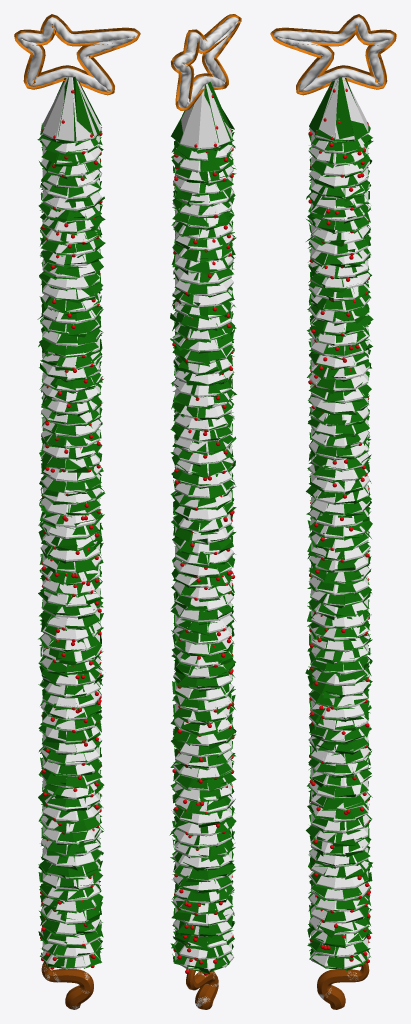
File: treeteehee.glb
3 renders of one model, left to right at view 1: azimuth 90°, elevation 25°; view 2: azimuth 150°, elevation 25°; view 3: azimuth 270°, elevation 25°, orthographic.
Parts seen in each view (by area): view 1: Cylinder.001, col, Plane.001, Icosphere.001, Plane; view 2: Cylinder.001, col, Plane.001, Icosphere.001, Plane; view 3: Cylinder.001, col, Plane.001, Icosphere.001, Plane.
Boxes of the visible parts, x1,y1,x2,y2 form: Cylinder.001: (37, 76, 105, 969); col: (41, 77, 101, 1009); Plane.001: (14, 14, 140, 95); Icosphere.001: (40, 86, 102, 969); Plane: (41, 962, 93, 1009); Cylinder.001: (169, 81, 236, 974); col: (173, 83, 233, 1007); Plane.001: (171, 14, 241, 110); Icosphere.001: (172, 93, 234, 975); Plane: (186, 969, 218, 1009); Cylinder.001: (305, 77, 373, 970); col: (309, 77, 369, 999); Plane.001: (270, 14, 396, 95); Icosphere.001: (308, 85, 370, 966); Plane: (317, 962, 369, 1009).
Bounding box in the file's own units: 15.44 × 250 × 28.86.
